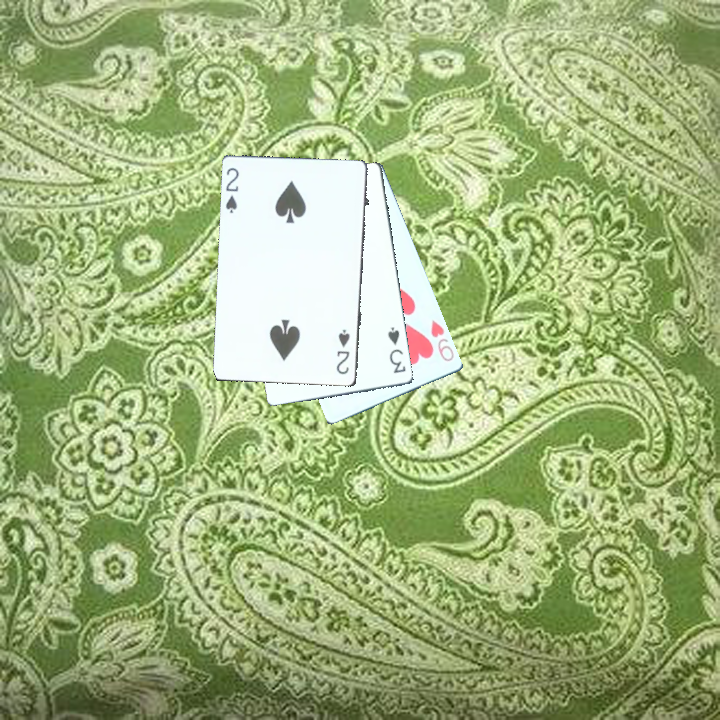2s: (332, 325, 352, 376), (222, 164, 241, 215)
3s: (384, 324, 408, 375)
9h: (427, 316, 456, 364)
